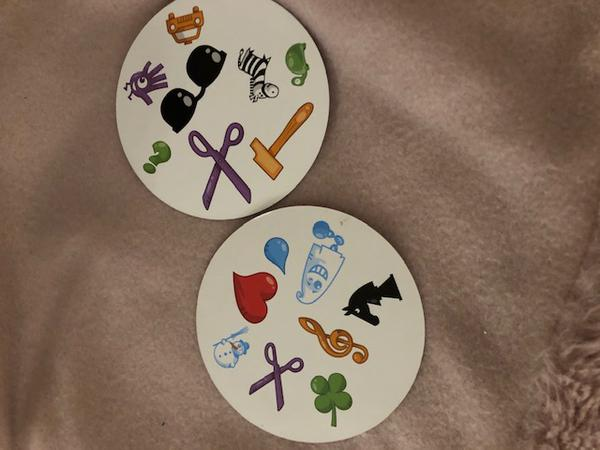bonhomme_neige: (207, 320, 254, 375)
cheval: (343, 272, 403, 327)
ciseau: (187, 122, 253, 210), (247, 340, 305, 410)
coeur: (230, 266, 278, 328)
dooble: (122, 57, 169, 108)
fantome: (296, 217, 348, 309)
goutte: (263, 230, 294, 278)
lunette: (158, 44, 226, 132)
marteau: (249, 100, 315, 181)
note: (295, 313, 368, 366)
point_interrogation: (140, 139, 169, 179)
tortue: (283, 41, 311, 88)
trefle: (308, 371, 354, 429)
voiture: (162, 4, 205, 49)
zebre: (234, 44, 278, 105)
